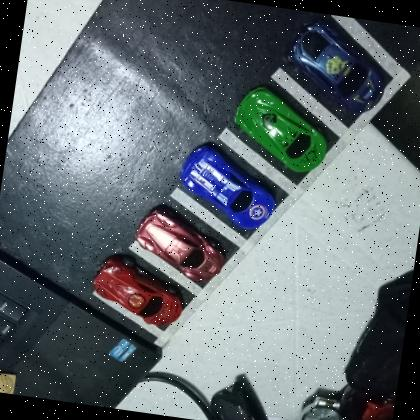Car: (278, 17, 394, 117), (227, 82, 336, 177), (174, 141, 282, 234), (130, 201, 232, 285), (86, 250, 190, 331)
